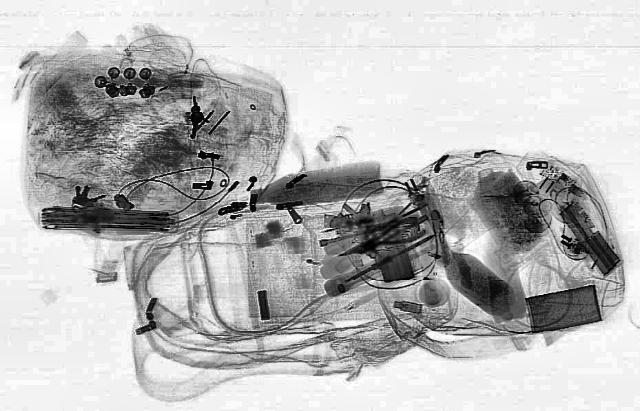Pliers: (328, 212, 434, 266)
